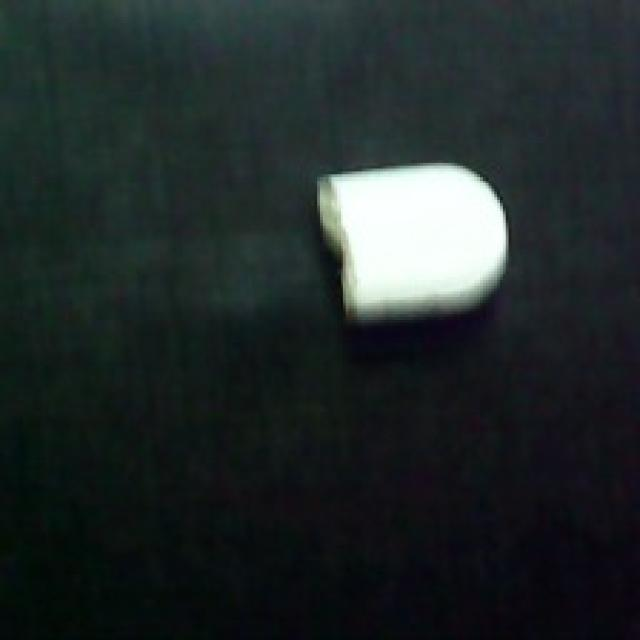defected: (310, 156, 516, 335)
